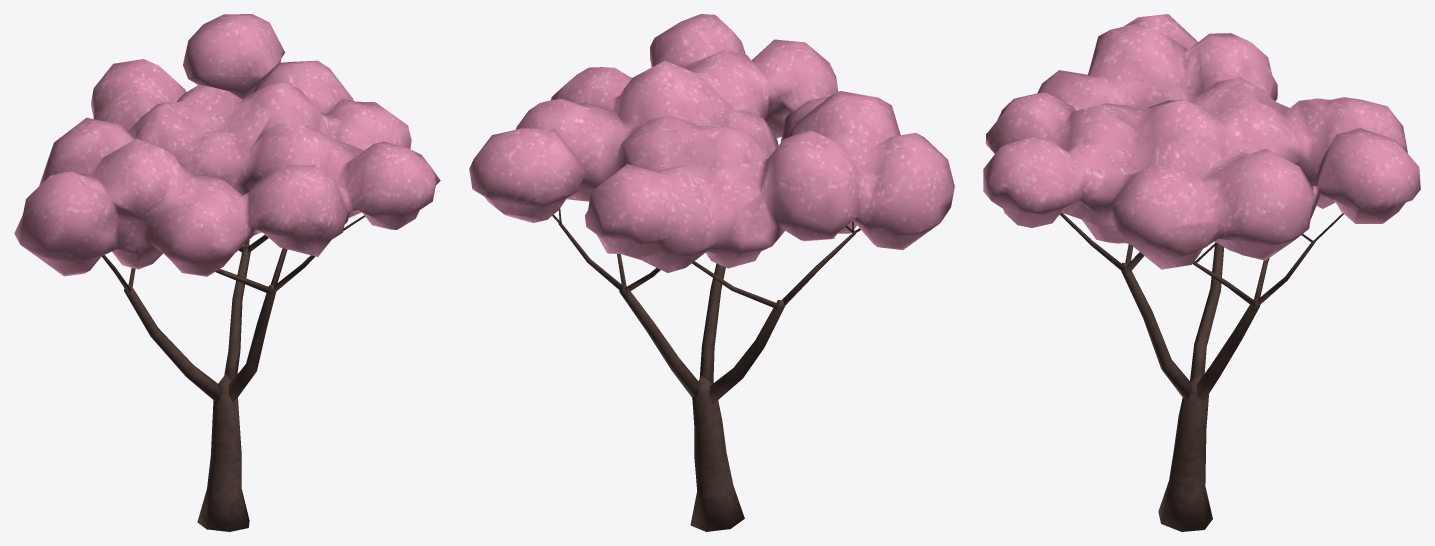
Rendered from sakuratreesmall.glb.
3 renders of one model, left to right at view 1: azimuth 30°, elevation 25°; view 2: azimuth 150°, elevation 25°; view 3: azimuth 270°, elevation 25°, orthographic. The views are drawn at different scales.
Visible parts, largest first — view 1: SakuraTree_Small_Canopy, SakuraTree_Small_Trunk; view 2: SakuraTree_Small_Canopy, SakuraTree_Small_Trunk; view 3: SakuraTree_Small_Canopy, SakuraTree_Small_Trunk.
Part boxes in pixels (x1,y1,x2,y2): SakuraTree_Small_Canopy: [14, 14, 440, 276]; SakuraTree_Small_Trunk: [102, 215, 365, 531]; SakuraTree_Small_Canopy: [469, 14, 954, 272]; SakuraTree_Small_Trunk: [552, 208, 860, 531]; SakuraTree_Small_Canopy: [983, 14, 1420, 269]; SakuraTree_Small_Trunk: [1060, 212, 1343, 531].
Size of the model in its own units: 12.9 by 14 by 12.38.
2 materials, 2 textured.
